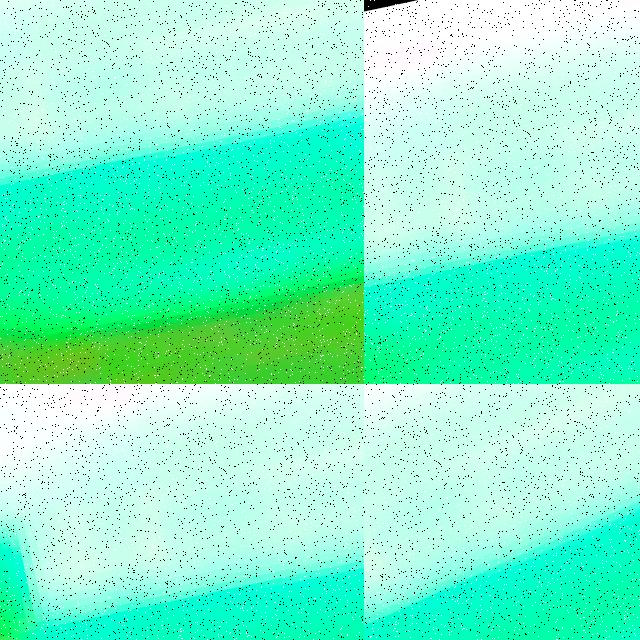drone: (364, 384, 640, 640)
